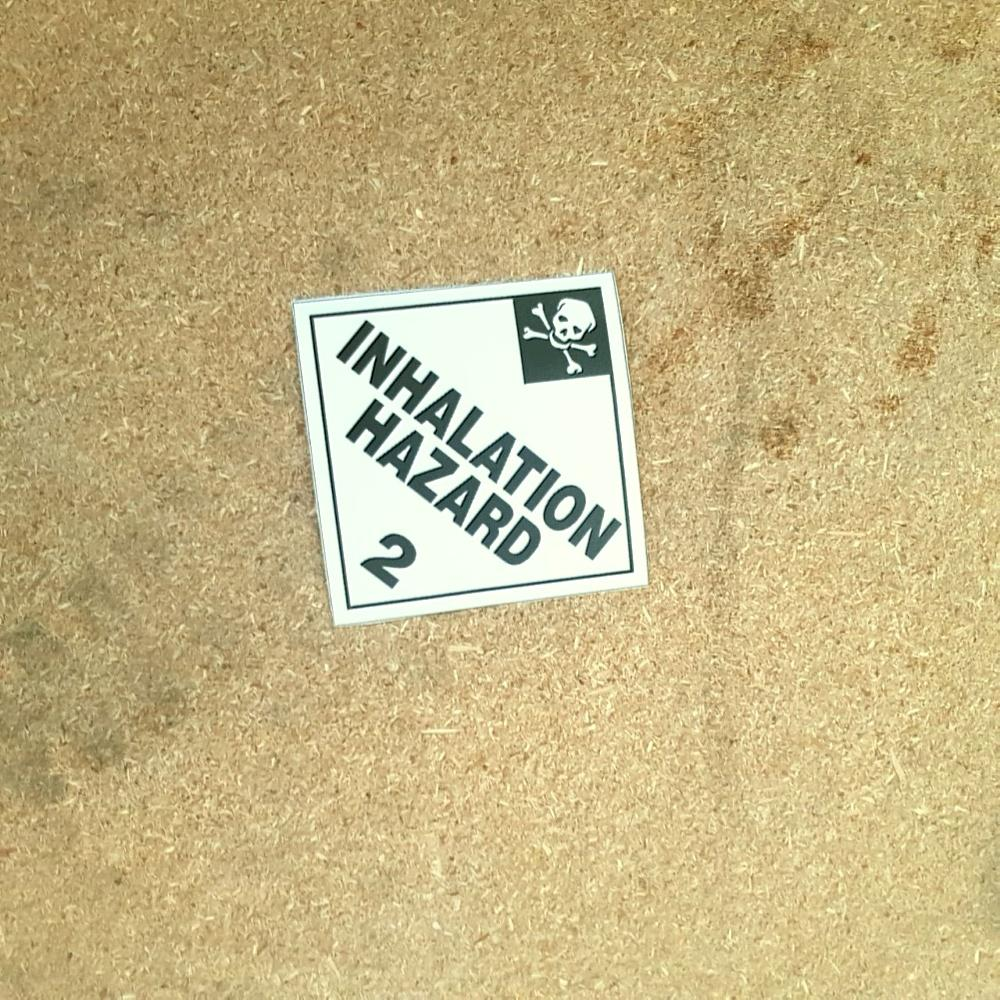poison: (297, 276, 653, 628)
